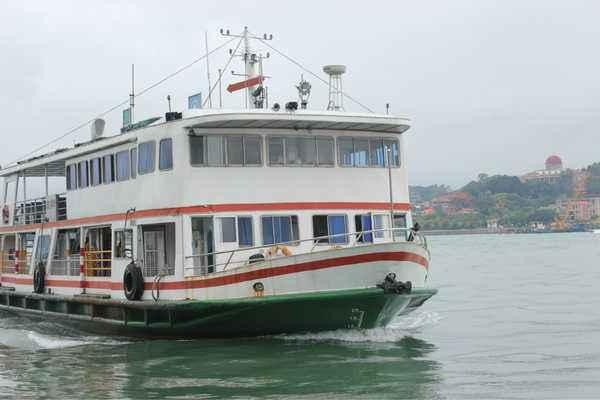otherboat: (1, 24, 429, 325)
